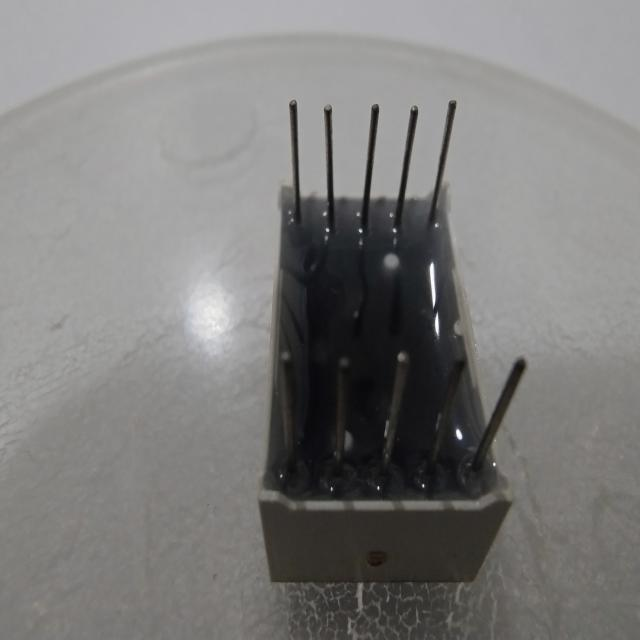7_segments: (254, 82, 541, 598)
